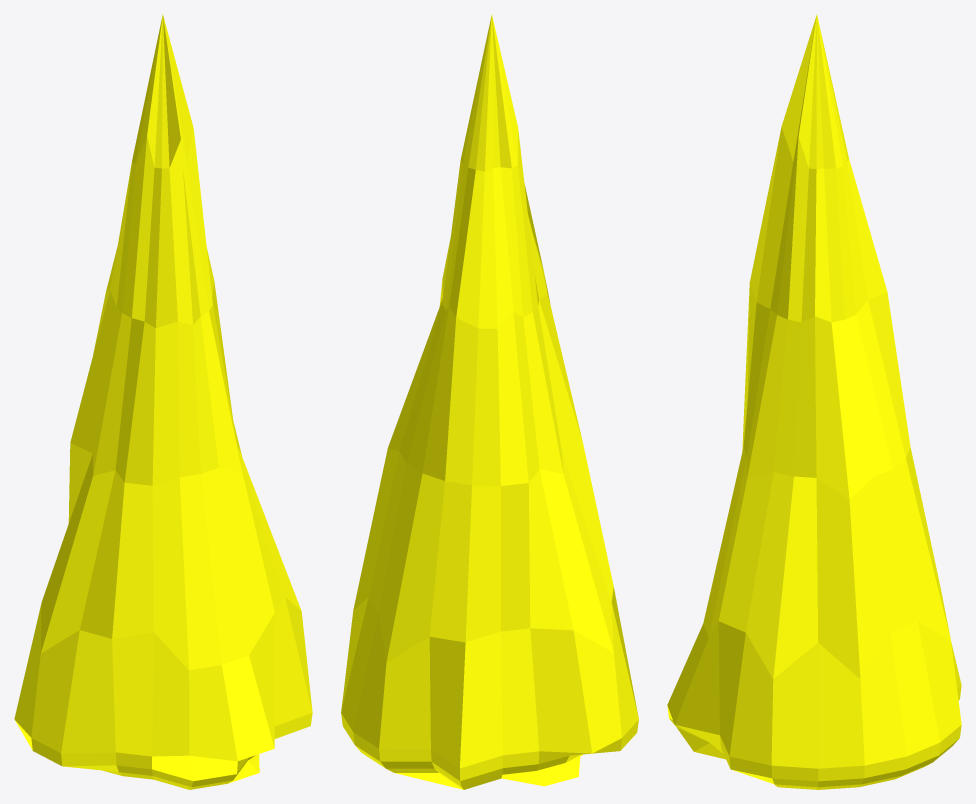
File: spike3.fbx
The picture shows the model from 3 angles, left to right: view 1: azimuth 30°, elevation 25°; view 2: azimuth 150°, elevation 25°; view 3: azimuth 270°, elevation 25°; orthographic projection.
Visible parts, largest first — view 1: pCone1; view 2: pCone1; view 3: pCone1.
Part boxes in pixels (left/top/right/bottom): pCone1: left=14, top=14, right=312, bottom=789; pCone1: left=341, top=14, right=638, bottom=789; pCone1: left=667, top=14, right=961, bottom=789.
Bounding box in the file's own units: 58.02 × 153 × 56.6.
